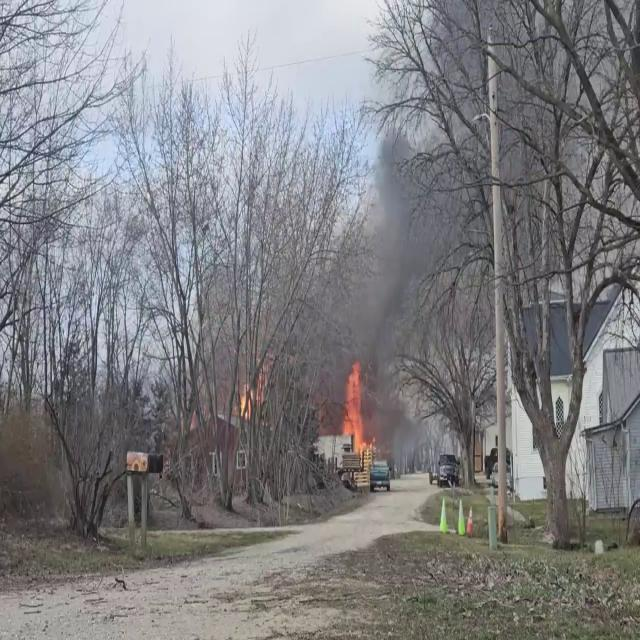Fire: (338, 356, 374, 460), (236, 372, 256, 429)
Smoke: (303, 117, 443, 414)
